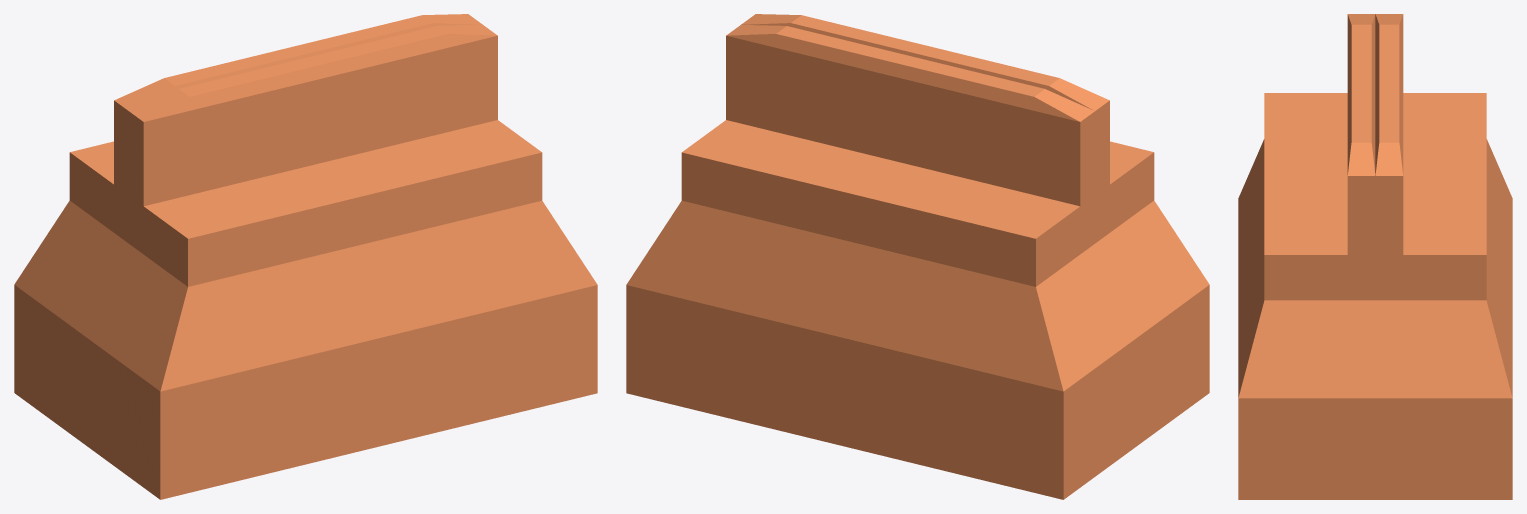
The model's file is slider_handle1.fbx.
3 renders of one model, left to right at view 1: azimuth 30°, elevation 25°; view 2: azimuth 150°, elevation 25°; view 3: azimuth 270°, elevation 25°, orthographic. The views are drawn at different scales.
Visible parts, largest first — view 1: mesh550008082; view 2: mesh550008082; view 3: mesh550008082.
Part boxes in pixels (x1,y1,x2,y2): mesh550008082: (14,14,597,499); mesh550008082: (626,14,1209,499); mesh550008082: (1238,14,1512,499).
Size of the model in its own units: 4 by 2.95 by 2.32.
